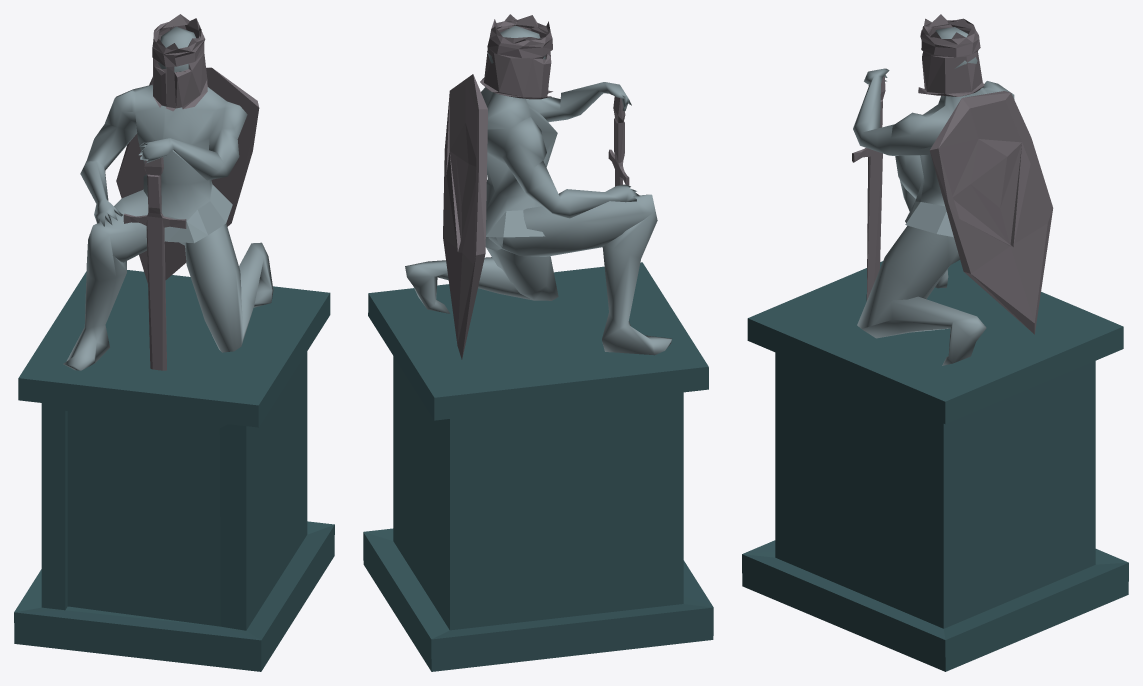
Rendered from playerTomb_P1.obj.
3 views of the same model, side by side, from view 1: azimuth 30°, elevation 25°; view 2: azimuth 150°, elevation 25°; view 3: azimuth 270°, elevation 25° (orthographic). The views are drawn at different scales.
Parts seen in each view (by area): view 1: Cube.004, Human.001_body.001, shield.001_Plane.005, sword_Cube.002, Circle.005_Circle.001; view 2: Cube.004, Human.001_body.001, shield.001_Plane.005, Circle.005_Circle.001, sword_Cube.002; view 3: Cube.004, shield.001_Plane.005, Human.001_body.001, Circle.005_Circle.001, sword_Cube.002.
Part boxes in pixels (x1,y1,x2,y2): Cube.004: [14, 270, 334, 671]; Human.001_body.001: [63, 26, 273, 370]; shield.001_Plane.005: [116, 67, 259, 283]; sword_Cube.002: [123, 157, 186, 370]; Circle.005_Circle.001: [152, 14, 207, 111]; Cube.004: [363, 262, 713, 671]; Human.001_body.001: [405, 25, 671, 355]; shield.001_Plane.005: [443, 74, 487, 359]; Circle.005_Circle.001: [480, 14, 552, 99]; sword_Cube.002: [608, 96, 629, 186]; Cube.004: [742, 260, 1128, 671]; shield.001_Plane.005: [929, 91, 1053, 334]; Human.001_body.001: [853, 27, 1014, 365]; Circle.005_Circle.001: [918, 14, 984, 96]; sword_Cube.002: [852, 76, 885, 300].
Size of the model in its own units: 49.81 by 81.59 by 49.81.
1 material, 1 textured.
